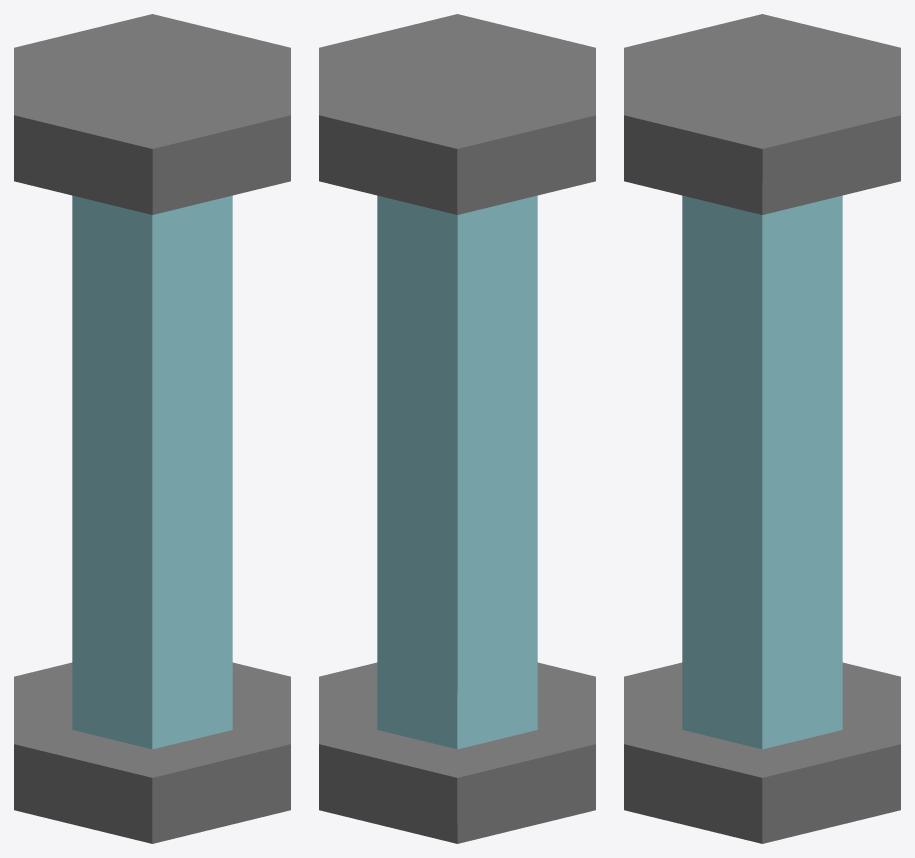
Rendered from Extra4.fbx.
3 views of the same model, side by side, from view 1: azimuth 30°, elevation 25°; view 2: azimuth 150°, elevation 25°; view 3: azimuth 270°, elevation 25° (orthographic).
Parts seen in each view (by area): view 1: Floor_Port_connector; view 2: Floor_Port_connector; view 3: Floor_Port_connector.
Boxes of the visible parts, x1,y1,x2,y2 form: Floor_Port_connector: (14, 14, 290, 843); Floor_Port_connector: (319, 14, 595, 843); Floor_Port_connector: (624, 14, 900, 843).
Size of the model in its own units: 0.9082 by 2.18 by 0.7866.
